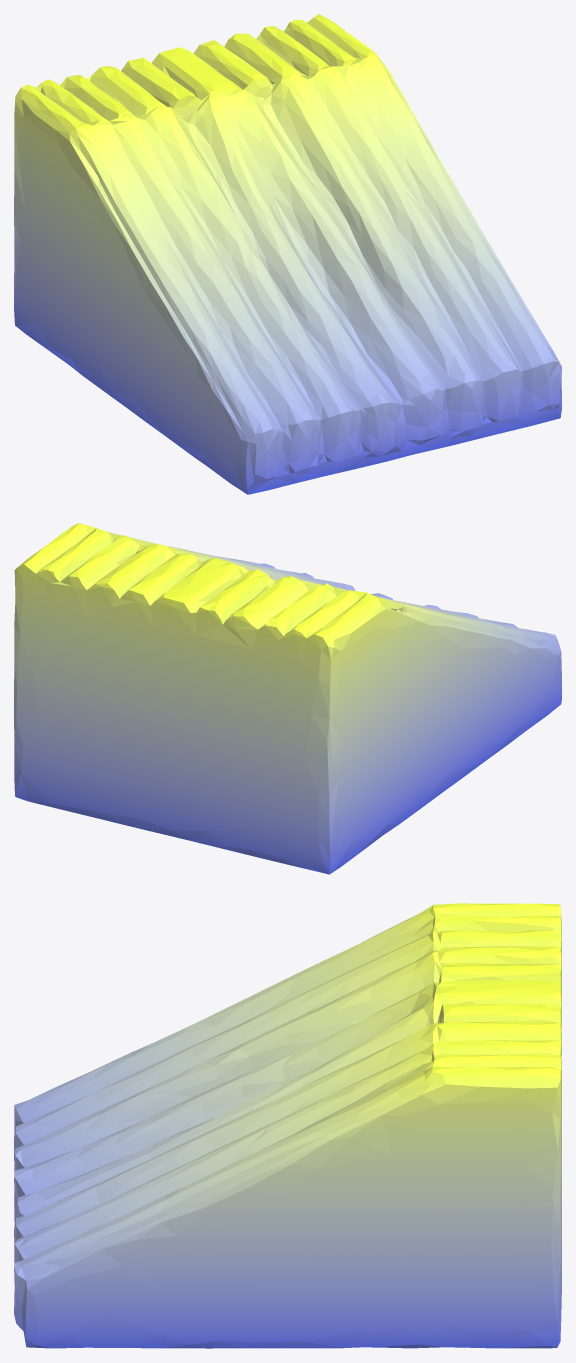
Rendered from 41_cyb_laser_gradient_fish_scales_2832_2026_10_03_c087f7.glb.
3 renders of one model, top to bottom at view 1: azimuth 30°, elevation 25°; view 2: azimuth 150°, elevation 25°; view 3: azimuth 270°, elevation 25°, orthographic. The views are drawn at different scales.
Visible parts, largest first — view 1: geometry_0; view 2: geometry_0; view 3: geometry_0.
Boxes of the visible parts, bbox=[...] form: geometry_0: bbox=[14, 14, 561, 494]; geometry_0: bbox=[14, 523, 561, 874]; geometry_0: bbox=[14, 903, 561, 1348].
Bounding box in the file's own units: 0.772 × 0.5562 × 1.
